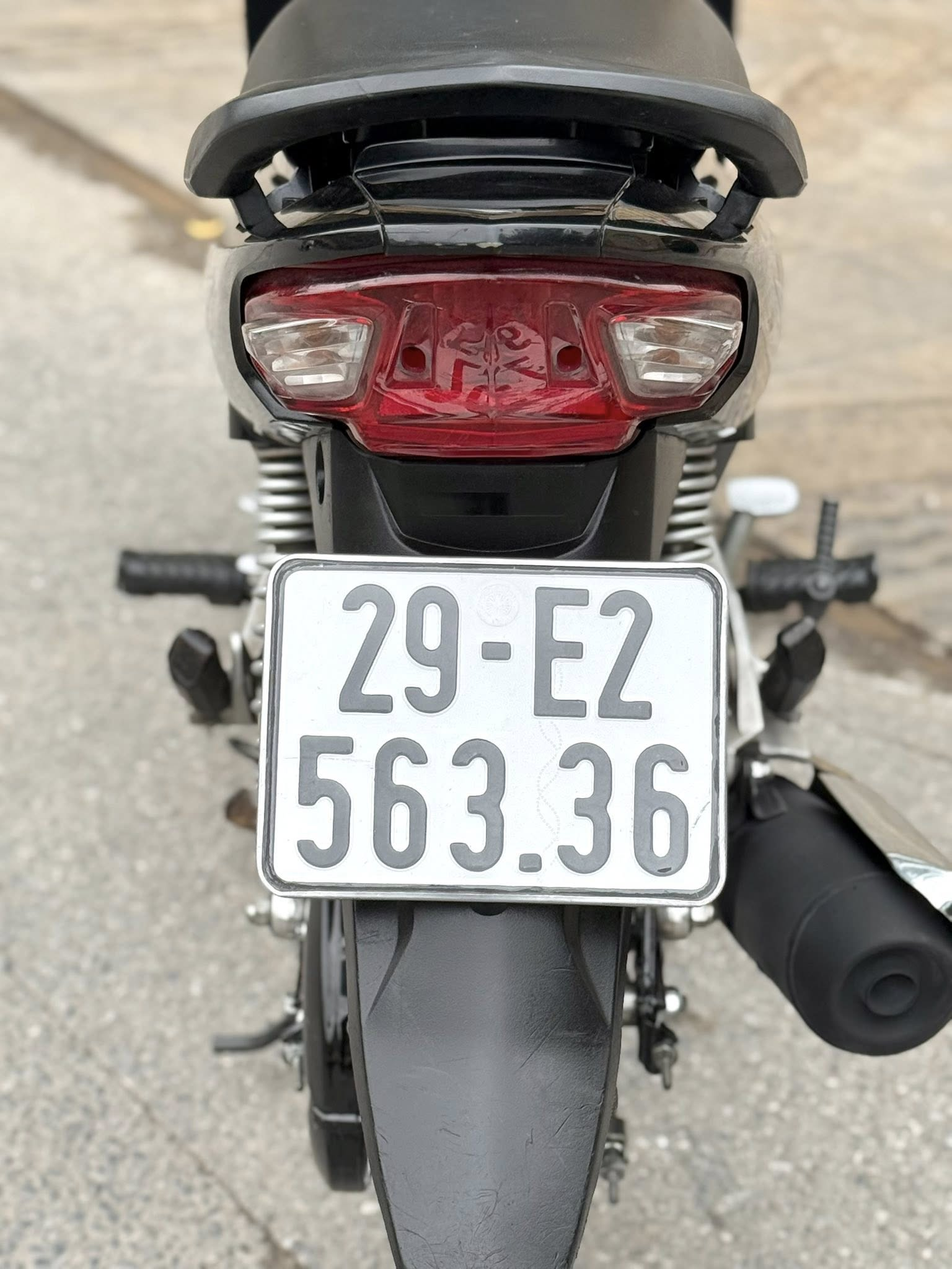bien_so: (247, 548, 739, 917)
